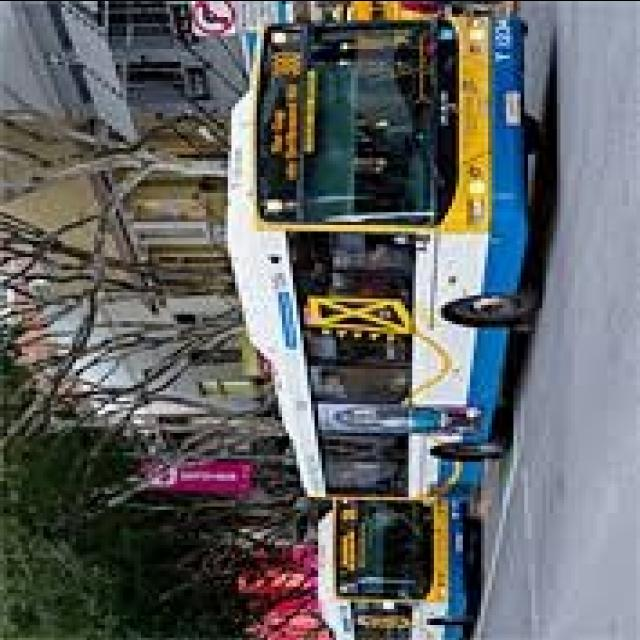bus: (221, 16, 540, 502), (321, 497, 481, 639)
